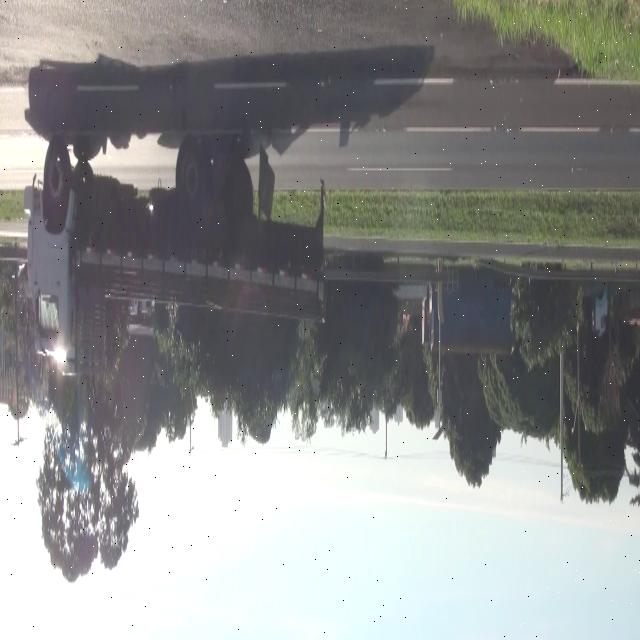-axle: (174, 141, 207, 225), (212, 142, 242, 232), (42, 136, 70, 212)
